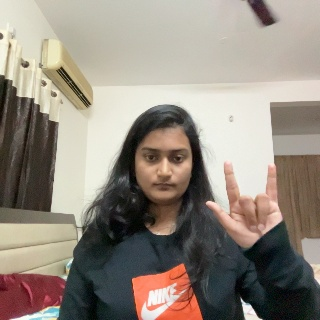Face: (131, 115, 195, 213)
I Love You: (206, 159, 287, 264)
